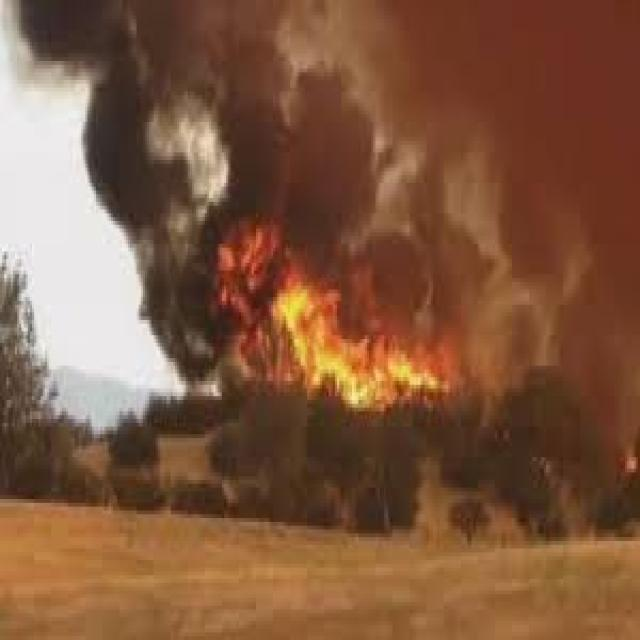Fire: (225, 234, 354, 386), (358, 336, 432, 400)
Smoke: (31, 2, 640, 222), (440, 232, 636, 496)
